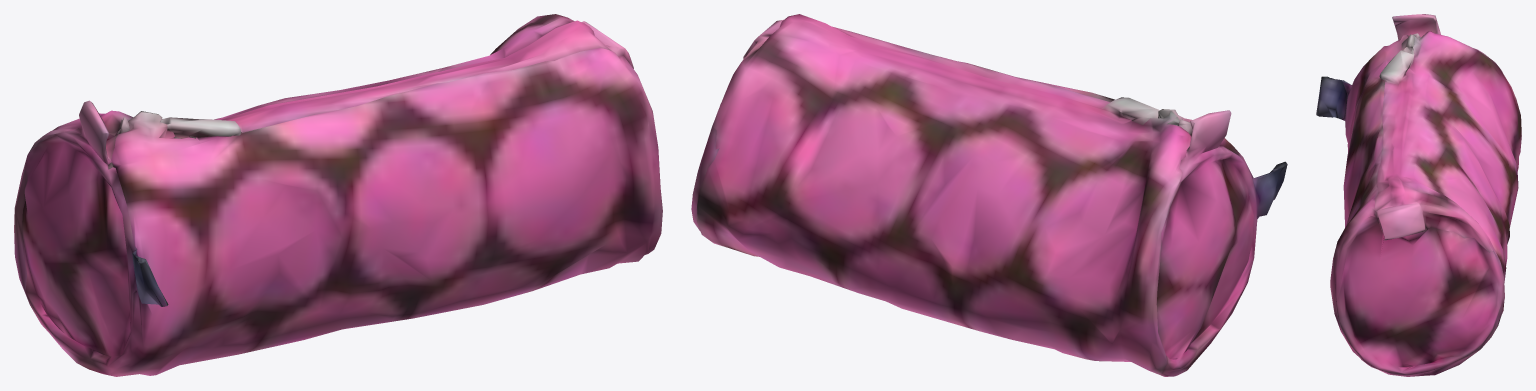
The model's file is Big_Dot_Pink_Pencil_Case-medium.glb.
3 views of the same model, side by side, from view 1: azimuth 30°, elevation 25°; view 2: azimuth 150°, elevation 25°; view 3: azimuth 270°, elevation 25° (orthographic). The views are drawn at different scales.
Visible parts, largest first — view 1: Big_Dot_Pink_Pencil_Case; view 2: Big_Dot_Pink_Pencil_Case; view 3: Big_Dot_Pink_Pencil_Case.
Boxes of the visible parts, <box> form: Big_Dot_Pink_Pencil_Case: <box>14,14,662,376</box>; Big_Dot_Pink_Pencil_Case: <box>691,14,1287,376</box>; Big_Dot_Pink_Pencil_Case: <box>1316,14,1521,376</box>.
Size of the model in its own units: 0.2135 by 0.0998 by 0.0968.
1 material, 1 textured.
